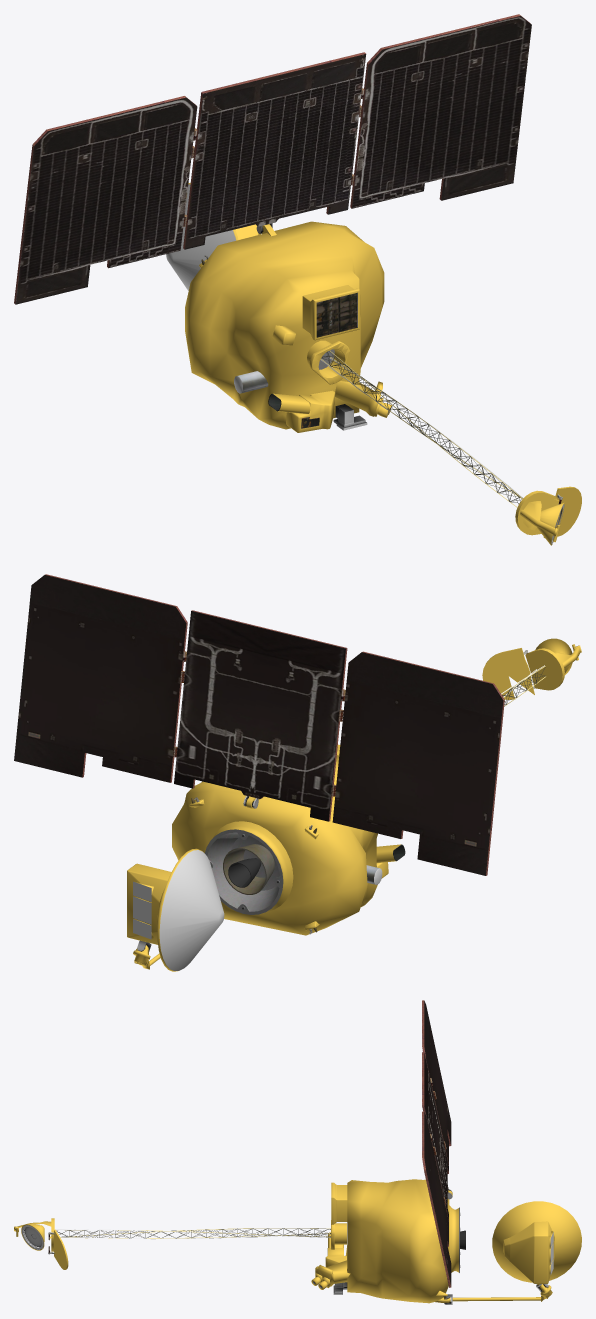
Rendered from mars_odyssey.gltf.
3 renders of one model, top to bottom at view 1: azimuth 30°, elevation 25°; view 2: azimuth 150°, elevation 25°; view 3: azimuth 270°, elevation 25°, orthographic. The views are drawn at different scales.
Visible parts, largest first — view 1: shiny_panel, BUS, tex_02, tex_boom, tex_01, foil_silver; view 2: tex_01, tex_02, BUS, foil_silver, tex_04, normal_panels; view 3: BUS, tex_01, tex_02, tex_boom.
Part boxes in pixels (x1=…): shiny_panel: x1=15, y1=16, x2=531, y2=304; BUS: x1=185, y1=183, x2=581, y2=545; tex_02: x1=14, y1=14, x2=530, y2=369; tex_boom: x1=320, y1=350, x2=523, y2=507; tex_01: x1=183, y1=88, x2=562, y2=504; foil_silver: x1=166, y1=184, x2=242, y2=393; tex_01: x1=14, y1=575, x2=534, y2=887; tex_02: x1=45, y1=574, x2=504, y2=914; BUS: x1=127, y1=638, x2=581, y2=971; foil_silver: x1=159, y1=850, x2=382, y2=970; tex_04: x1=191, y1=798, x2=378, y2=932; normal_panels: x1=133, y1=881, x2=151, y2=939; BUS: x1=14, y1=1179, x2=581, y2=1303; tex_01: x1=48, y1=1001, x2=546, y2=1303; tex_02: x1=422, y1=1000, x2=460, y2=1287; tex_boom: x1=56, y1=1228, x2=330, y2=1239.
Bounding box in the file's own units: 5.67 × 3.36 × 8.22.
Materials: 13 (8 with a texture image).
